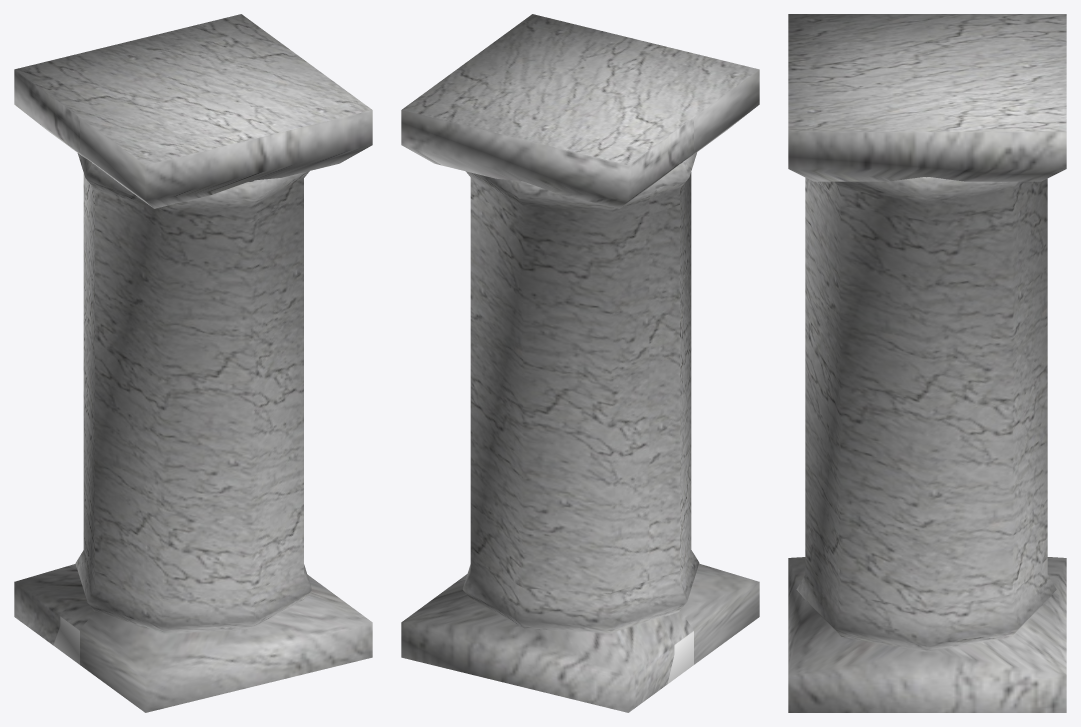
The model's file is pedestral_lo.glb.
3 views of the same model, side by side, from view 1: azimuth 30°, elevation 25°; view 2: azimuth 150°, elevation 25°; view 3: azimuth 270°, elevation 25° (orthographic). The views are drawn at different scales.
Visible parts, largest first — view 1: column_diffuse.jpg__; view 2: column_diffuse.jpg__; view 3: column_diffuse.jpg__.
Part boxes in pixels (x1,y1,x2,y2): column_diffuse.jpg__: (14, 14, 372, 712); column_diffuse.jpg__: (401, 14, 759, 712); column_diffuse.jpg__: (788, 14, 1066, 712).
Bounding box in the file's own units: 1.37 × 3.17 × 1.37.
Materials: 1 (1 with a texture image).
